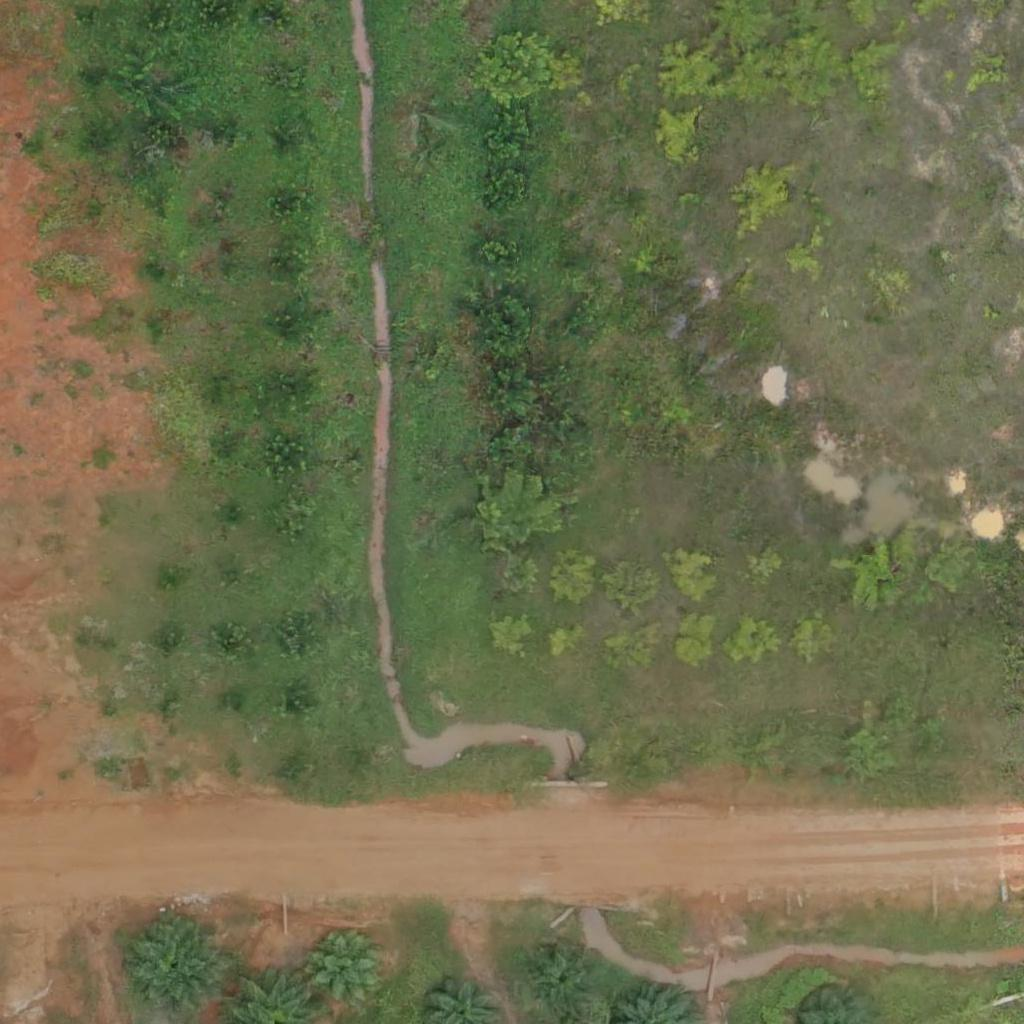Kelapa_Sawit: (126, 917, 226, 1018), (309, 926, 396, 1014), (534, 950, 596, 1013)
